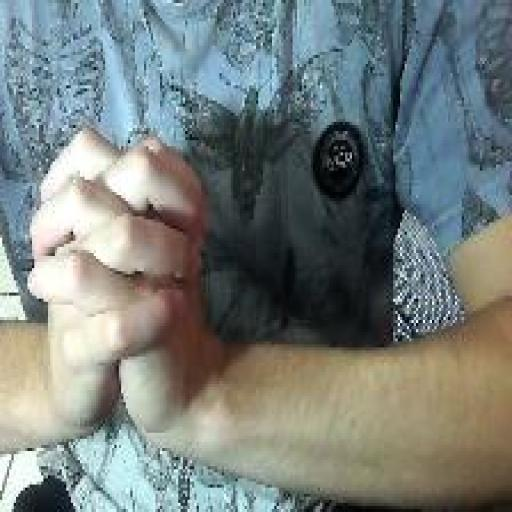Mi -snake-: (23, 120, 212, 471)
